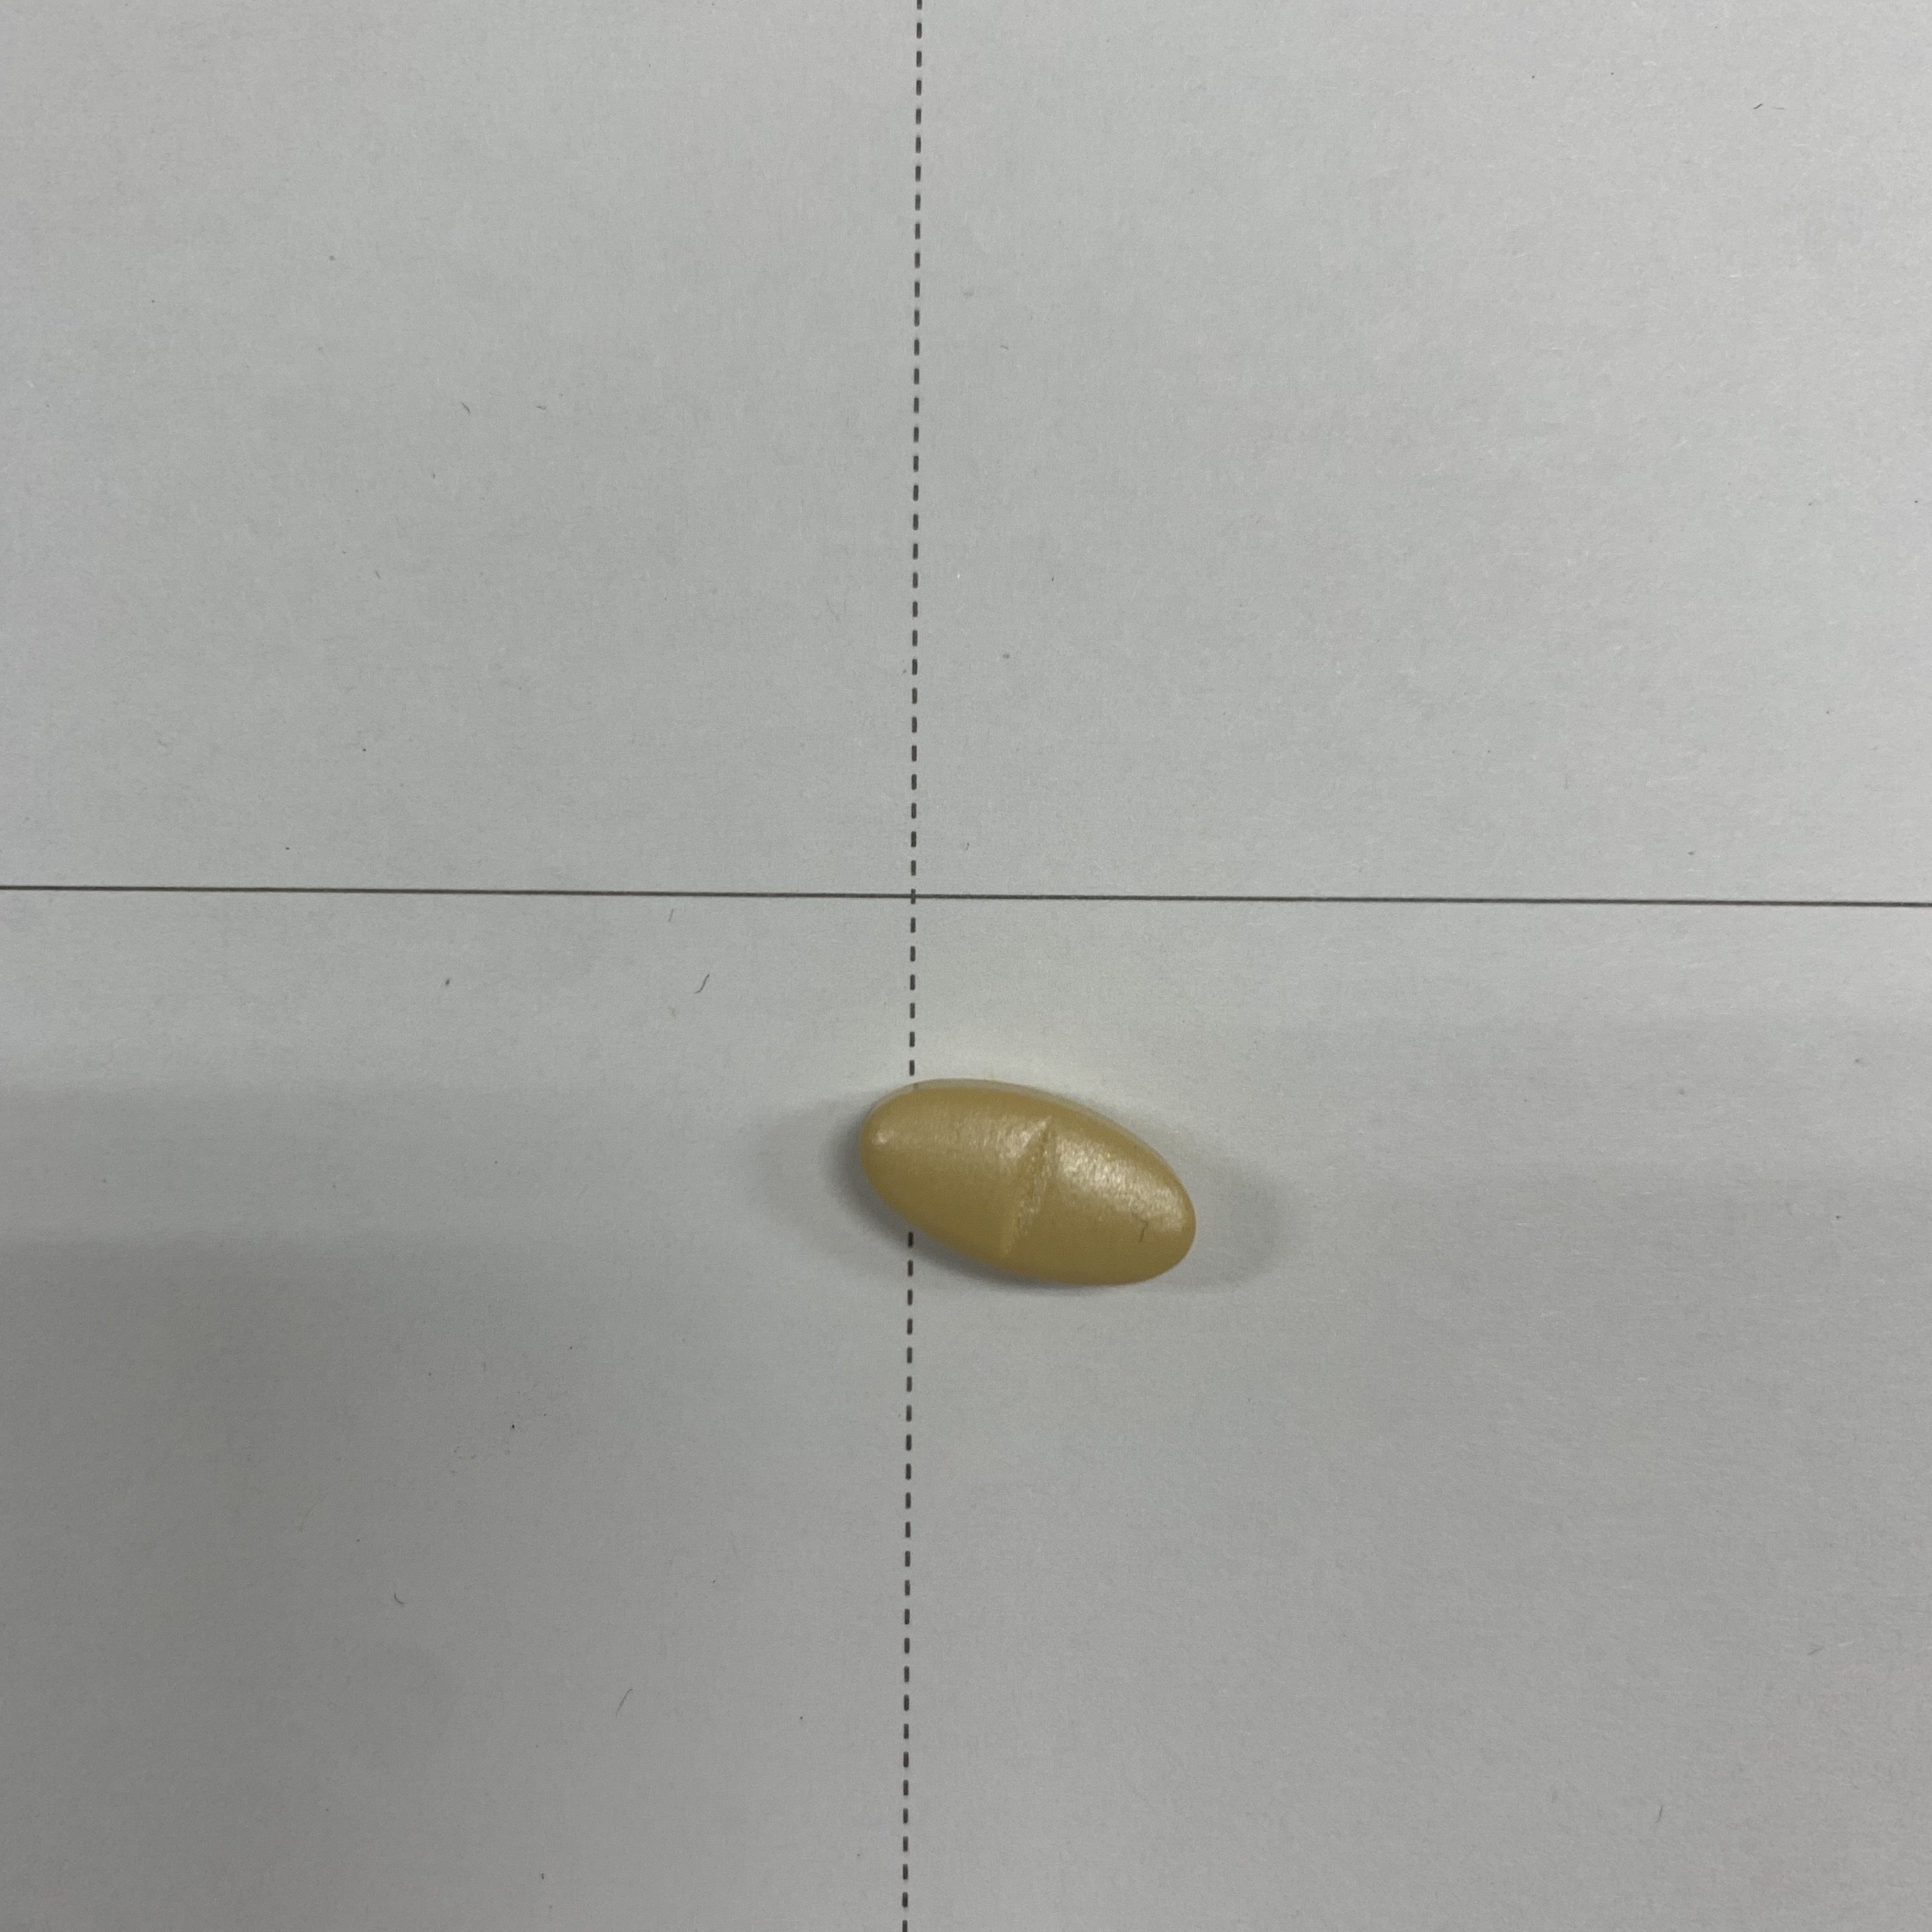oval_drug: (814, 1062, 1231, 1299)
